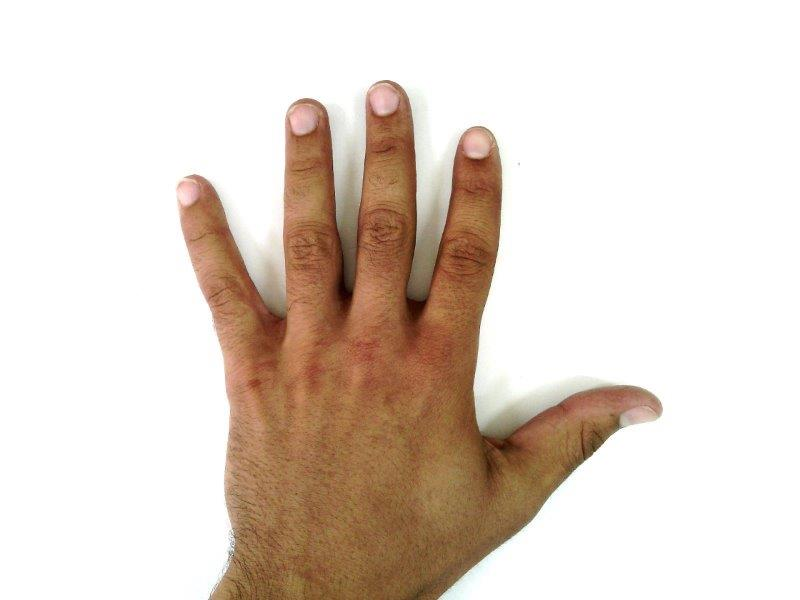hand: (177, 82, 662, 594)
